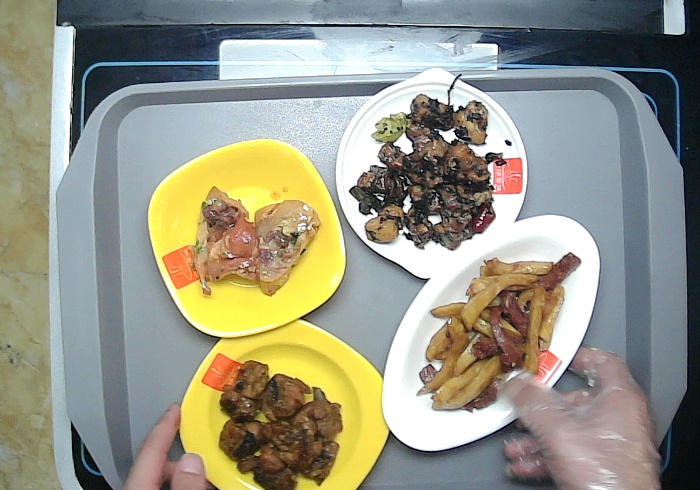SHKJ-Bao_Yu_Pan: (334, 64, 532, 279)
SHKJ-Huang_Se_Cai_Die: (148, 137, 347, 338)
SHKJ-Huang_Se_Si_Fang_Cai_Die: (175, 321, 392, 490)
SHKJ-Yu_Pan: (379, 211, 604, 454)
